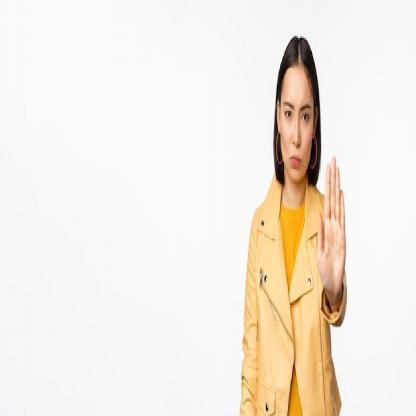stop: (316, 148, 347, 313)
